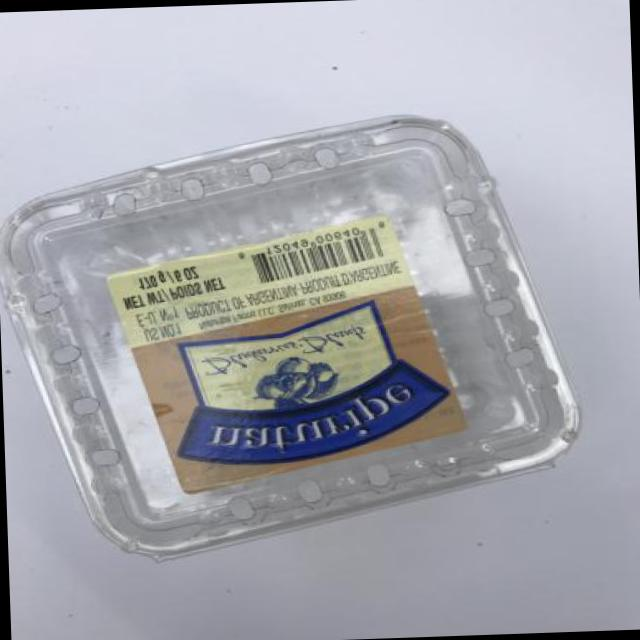plastic: (0, 117, 577, 559)
